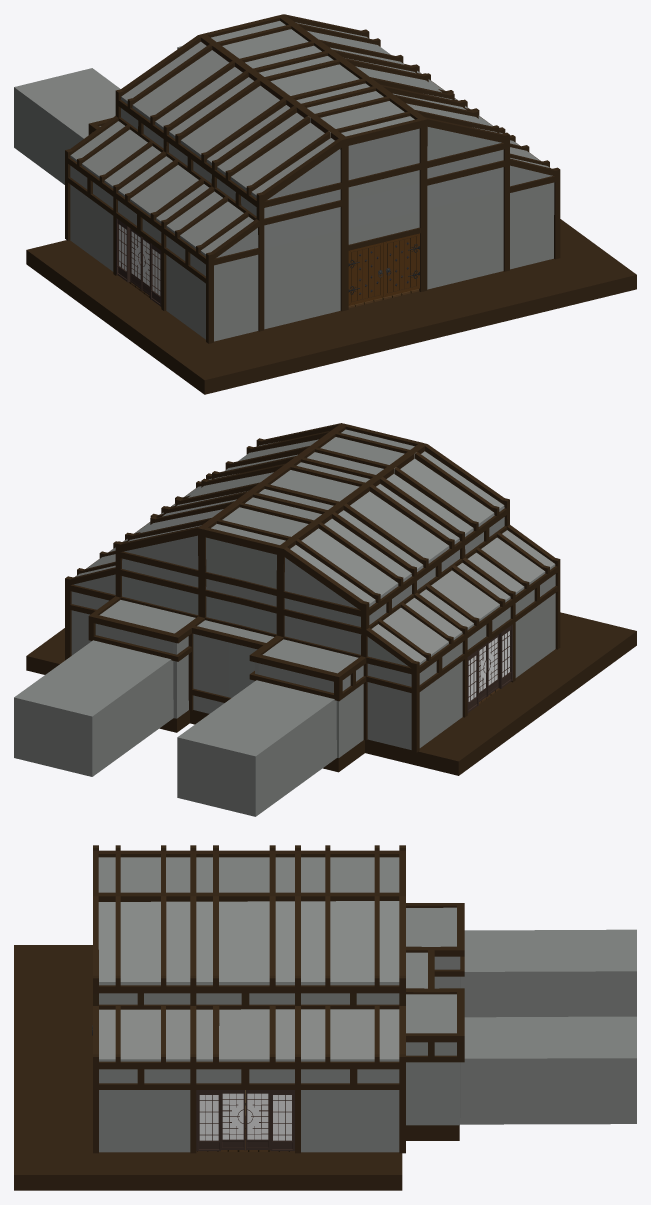
File: Dojo_Rework9.3(FBX).fbx
3 views of the same model, one above another, from view 1: azimuth 30°, elevation 25°; view 2: azimuth 150°, elevation 25°; view 3: azimuth 270°, elevation 25° (orthographic). The views are drawn at different scales.
Parts seen in each view (by area): view 1: Walls, Structure_wood, Tatami_base, Door_Entrance_R, Door_Entrance_L, Side_Shoji_L2, Side_Shoji_L1, Move_Shoji_L2; view 2: Walls, Structure_wood, Tatami_base, Side_Shoji_L1, Side_Shoji_L2, Move_Shoji_L1; view 3: Walls, Structure_wood, Tatami_base, Move_Shoji_R1, Side_Shoji_R1, Side_Shoji_R2, Move_Shoji_R2.
Part boxes in pixels (x1,y1,x2,y2): Walls: (14,21,554,341); Structure_wood: (65,14,560,343); Tatami_base: (26,219,636,394); Door_Entrance_R: (383,233,419,297); Door_Entrance_L: (348,242,383,305); Side_Shoji_L2: (116,218,130,282); Side_Shoji_L1: (150,243,161,306); Move_Shoji_L2: (130,228,141,289); Walls: (14,429,555,816); Structure_wood: (65,423,560,752); Tatami_base: (26,612,636,775); Side_Shoji_L1: (498,624,512,688); Side_Shoji_L2: (467,649,478,713); Move_Shoji_L1: (487,635,498,695); Walls: (98,857,636,1152); Structure_wood: (93,845,464,1153); Tatami_base: (14,945,459,1190); Move_Shoji_R1: (245,1090,270,1150); Side_Shoji_R1: (196,1090,220,1151); Side_Shoji_R2: (270,1090,294,1151); Move_Shoji_R2: (221,1090,245,1150).
Size of the model in its own units: 2245 by 922 by 2571.
